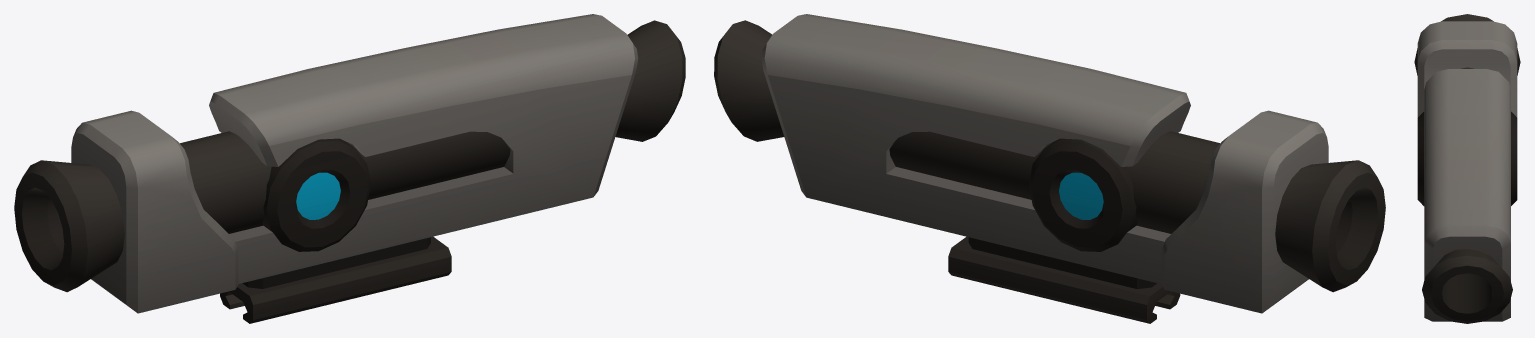
The model's file is Sight_12.fbx.
3 views of the same model, side by side, from view 1: azimuth 30°, elevation 25°; view 2: azimuth 150°, elevation 25°; view 3: azimuth 270°, elevation 25° (orthographic). The views are drawn at different scales.
Visible parts, largest first — view 1: Sight_12; view 2: Sight_12; view 3: Sight_12.
Boxes of the visible parts, x1,y1,x2,y2 form: Sight_12: (14, 14, 685, 323); Sight_12: (714, 14, 1385, 323); Sight_12: (1414, 14, 1520, 323).
Size of the model in its own units: 42.78 by 13.72 by 7.94.
